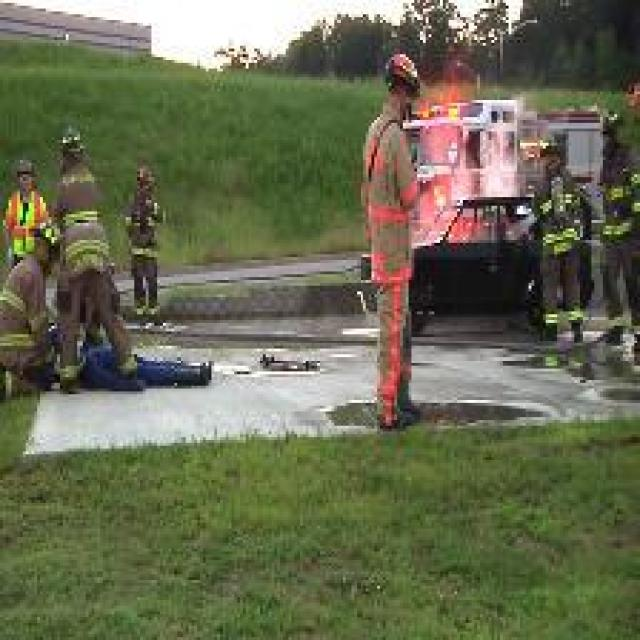other: (405, 76, 502, 110)
